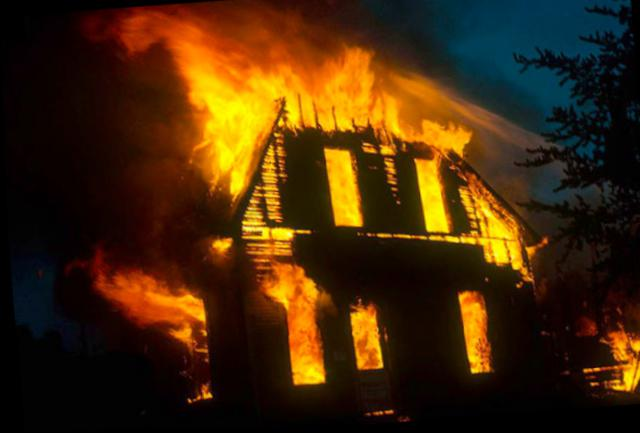fire: (155, 0, 531, 292), (93, 245, 215, 418), (577, 295, 639, 402), (278, 279, 327, 389), (455, 286, 493, 383), (349, 296, 382, 377)
